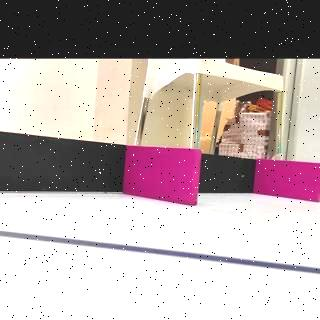xparking: (130, 150, 198, 204), (261, 162, 320, 200)
